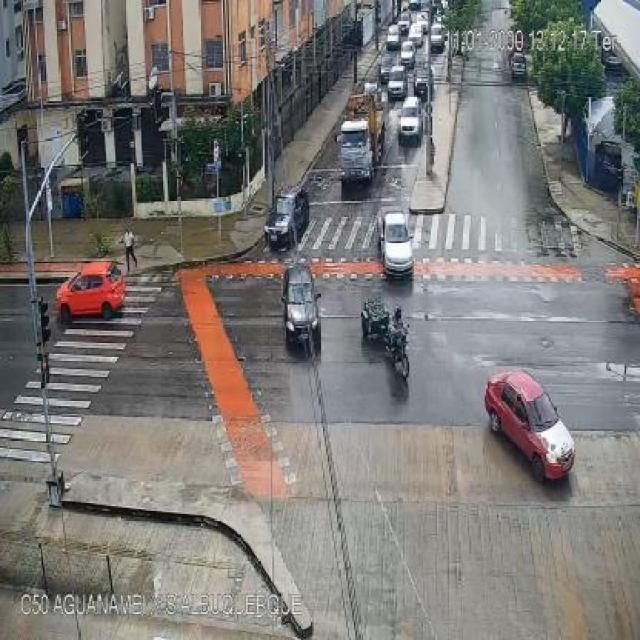Car: (482, 369, 579, 484), (55, 259, 124, 331), (282, 261, 327, 353), (262, 187, 312, 248), (377, 208, 417, 280), (397, 96, 426, 143), (414, 62, 434, 96), (385, 67, 408, 96), (384, 22, 403, 51), (510, 52, 527, 80), (400, 40, 418, 65), (408, 20, 426, 43), (431, 24, 446, 47)
Cycle: (360, 290, 413, 390)
Truck: (333, 92, 388, 187)
